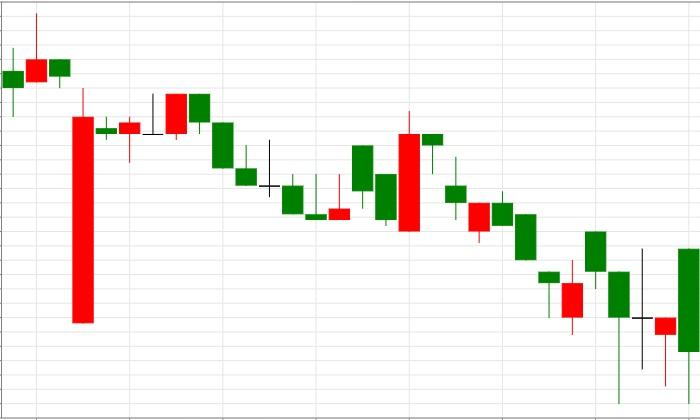bullish_engulfing_rise: (189, 94, 351, 221)
three_black_crows_fall: (71, 88, 257, 324)
